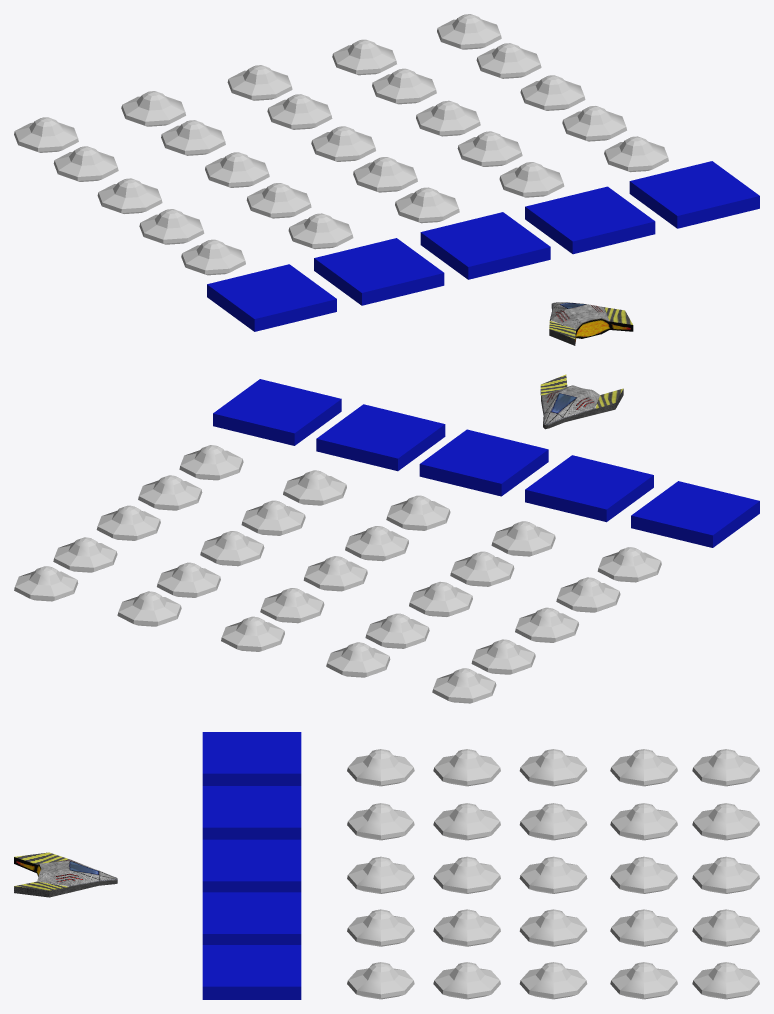
Rendered from level.fbx.
3 views of the same model, one above another, from view 1: azimuth 30°, elevation 25°; view 2: azimuth 150°, elevation 25°; view 3: azimuth 270°, elevation 25° (orthographic). The views are drawn at different scales.
Parts seen in each view (by area): view 1: Block.002, Block, Block.001, Block.003, Block.004, ship, Invader.021, Invader.016, Invader.004, Invader.001, Invader.022, Invader.024 (+19 smaller); view 2: Block.001, Block, Block.004, Block.003, Block.002, ship, Invader.024, Invader.002, Invader.001, Invader.021, Invader.006, Invader (+19 smaller); view 3: Block.002, Block.004, Block.003, Block, Block.001, ship, Invader.022, Invader.013, Invader.023, Invader.019, Invader.005, Invader.011 (+19 smaller).
Boxes of the visible parts, bbox=[...] form: Block.002: bbox=[629, 161, 759, 228]; Block: bbox=[420, 212, 550, 279]; Block.001: bbox=[525, 186, 655, 254]; Block.003: bbox=[314, 238, 444, 305]; Block.004: bbox=[207, 264, 336, 331]; ship: bbox=[549, 302, 633, 345]; Invader.021: bbox=[332, 39, 396, 75]; Invader.016: bbox=[161, 120, 225, 155]; Invader.004: bbox=[181, 239, 245, 275]; Invader.001: bbox=[499, 162, 564, 197]; Invader.022: bbox=[437, 14, 501, 49]; Invader.024: bbox=[14, 117, 78, 152]; Block.001: bbox=[316, 404, 445, 471]; Block: bbox=[419, 429, 548, 496]; Block.004: bbox=[631, 481, 759, 547]; Block.003: bbox=[525, 455, 653, 522]; Block.002: bbox=[213, 379, 341, 445]; ship: bbox=[540, 374, 623, 429]; Invader.024: bbox=[432, 668, 496, 703]; Invader.002: bbox=[179, 445, 243, 480]; Invader.001: bbox=[283, 470, 346, 505]; Invader.021: bbox=[117, 591, 181, 626]; Invader.006: bbox=[450, 551, 514, 586]; Invader: bbox=[386, 495, 450, 530]; Block.002: bbox=[202, 945, 301, 999]; Block.004: bbox=[202, 732, 301, 785]; Block.003: bbox=[202, 786, 301, 839]; Block: bbox=[202, 839, 301, 892]; Block.001: bbox=[202, 892, 301, 944]; ship: bbox=[14, 852, 117, 897]; Invader.022: bbox=[692, 962, 759, 999]; Invader.013: bbox=[519, 803, 587, 840]; Invader.023: bbox=[692, 803, 759, 840]; Invader.019: bbox=[610, 856, 677, 893]; Invader.005: bbox=[433, 749, 500, 786]; Invader.011: bbox=[519, 909, 587, 946].
Bounding box in the file's own units: 17.03 × 0.8927 × 21.08.
3 materials, 1 textured.
